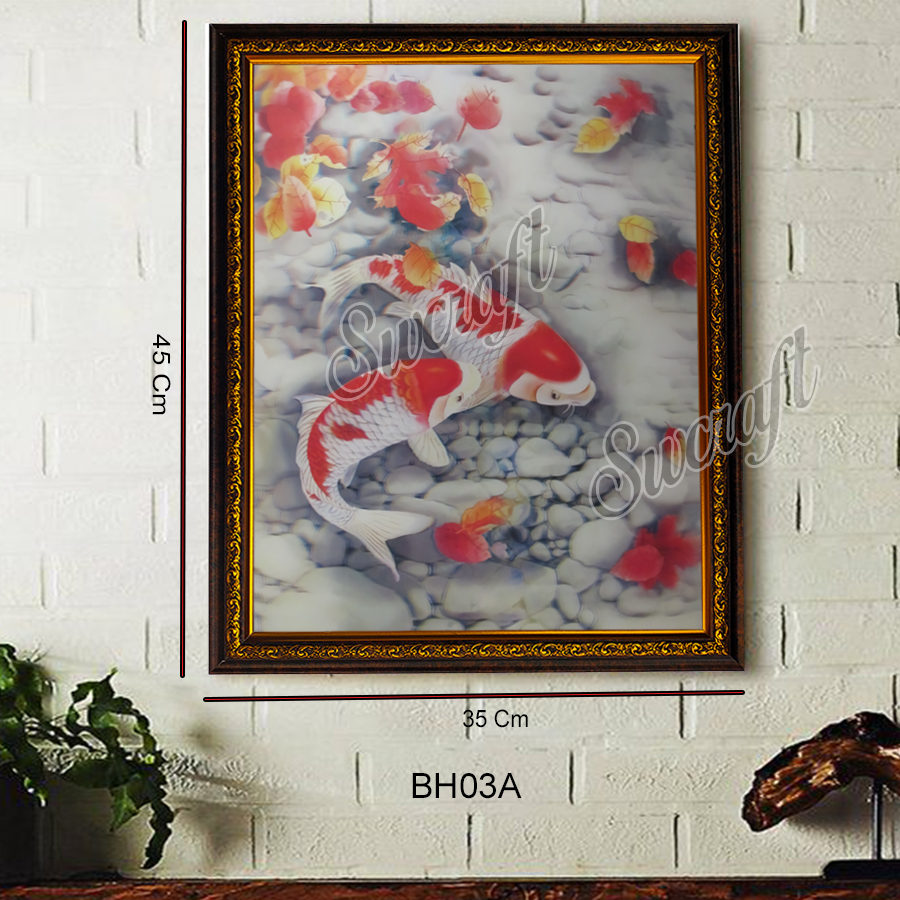lukisan: (185, 8, 766, 693)
